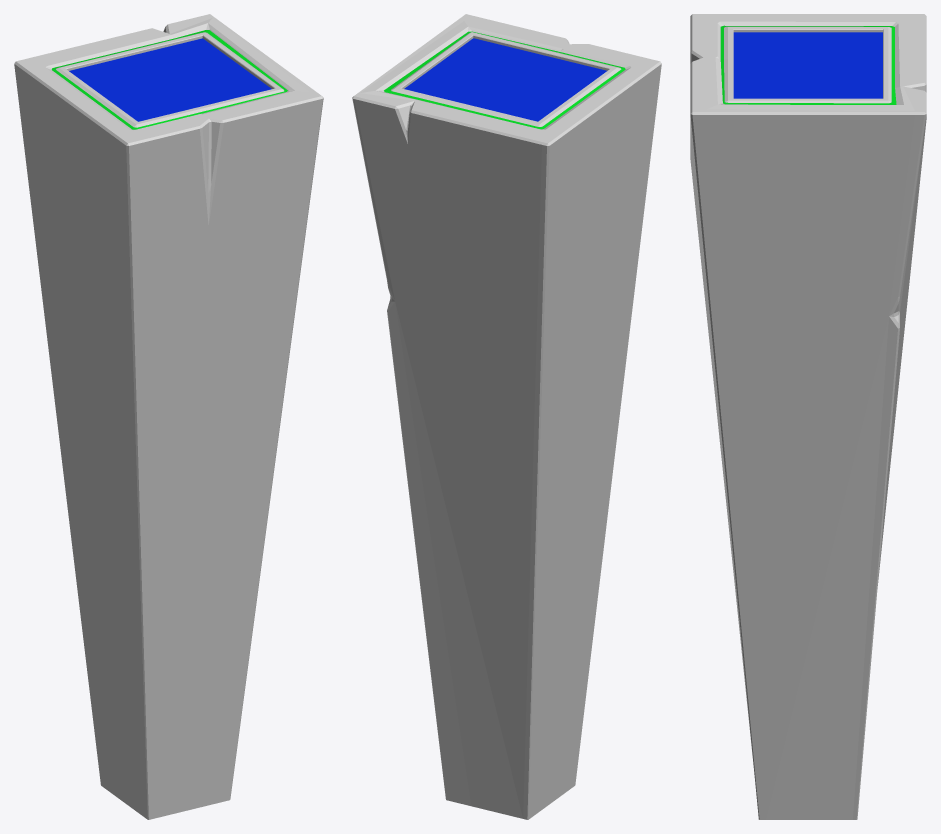
The model's file is GoalPlatform.fbx.
The picture shows the model from 3 angles, left to right: view 1: azimuth 30°, elevation 25°; view 2: azimuth 150°, elevation 25°; view 3: azimuth 270°, elevation 25°; orthographic projection. The views are drawn at different scales.
Visible parts, largest first — view 1: GoalPlatform; view 2: GoalPlatform; view 3: GoalPlatform.
Boxes of the visible parts, x1,y1,x2,y2 form: GoalPlatform: (14, 14, 323, 819); GoalPlatform: (352, 14, 661, 819); GoalPlatform: (690, 14, 926, 819).
Bounding box in the file's own units: 184 × 636 × 184.
